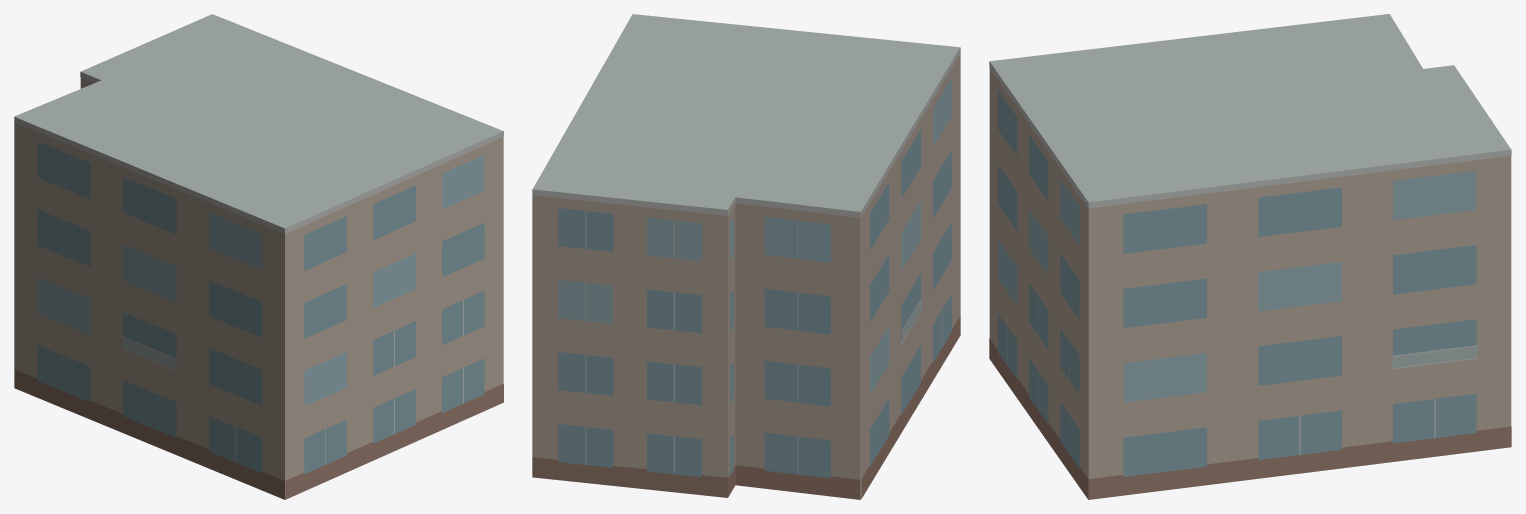
The model's file is survey-upis-33046438.glb.
3 views of the same model, side by side, from view 1: azimuth 30°, elevation 25°; view 2: azimuth 150°, elevation 25°; view 3: azimuth 270°, elevation 25° (orthographic). The views are drawn at different scales.
Parts seen in each view (by area): view 1: survey-upis-33046438.tmp; view 2: survey-upis-33046438.tmp; view 3: survey-upis-33046438.tmp.
Boxes of the visible parts, box(x1,y1,x2,y2) form: survey-upis-33046438.tmp: box(14, 14, 503, 499); survey-upis-33046438.tmp: box(532, 14, 960, 499); survey-upis-33046438.tmp: box(989, 14, 1511, 499).
Bounding box in the file's own units: 16.2 × 11.92 × 18.96.
